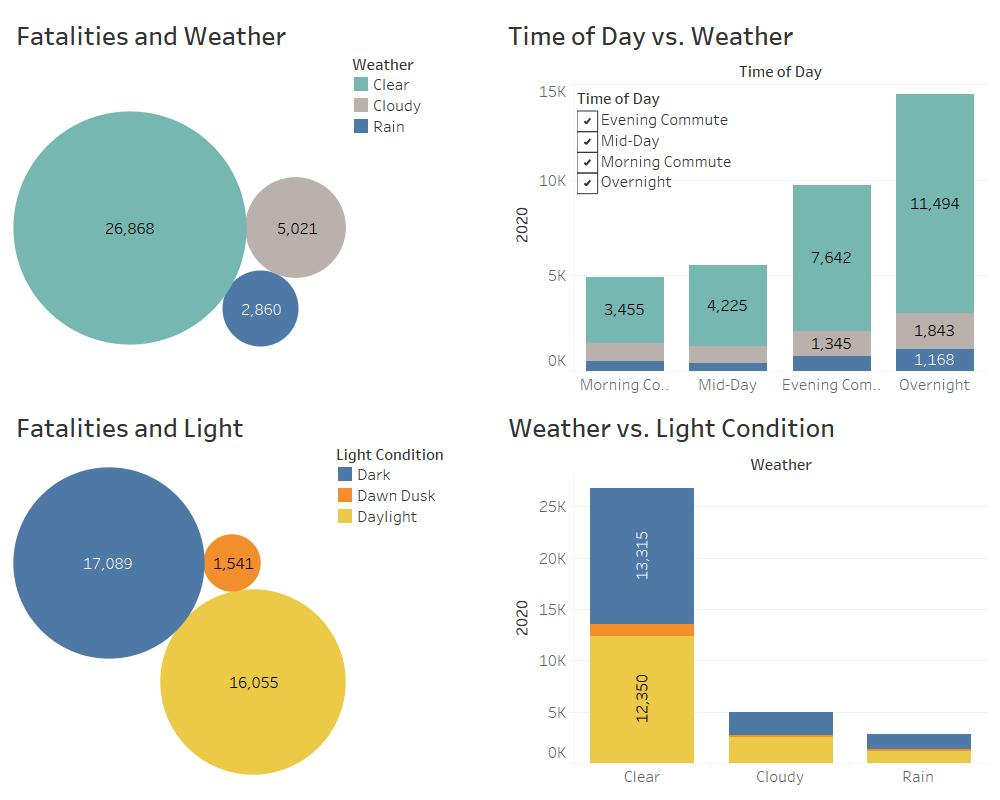

This screenshot's page, from the dashboard's own definition file:
{"tool":"tableau","page":{"name":"Dashboard 1","canvas":[1000,800],"ordinal":0},"visuals":[{"type":"worksheet","title":"Sheet 2","mark":"Circle","box":[8,8,492,392]},{"type":"worksheet","title":"Sheet 4","mark":"Automatic","rows":["number_of_fatalities"],"box":[500,8,492,392]},{"type":"legend","title":"Sheet 4","param":"[federated.0u33220150e2l51epe9a91ncw4q5].[none:atmospheric_conditions_1_name:nk]","box":[351,52,140,85]},{"type":"filter","title":"Sheet 4","param":"[federated.0u33220150e2l51epe9a91ncw4q5].[Hour Of Crash Name Commute Time (group","box":[577,87,165,118]},{"type":"worksheet","title":"Sheet 3","mark":"Circle","box":[8,400,492,392]},{"type":"worksheet","title":"Sheet 5","mark":"Automatic","rows":["number_of_fatalities"],"cols":["atmospheric_conditions_1_name"],"box":[500,400,492,392]},{"type":"legend","title":"Sheet 5","param":"[federated.0u33220150e2l51epe9a91ncw4q5].[Light Condition (group) Daylight Dark ","box":[335,442,140,85]}]}

Visuals, with their boxes in screenshot pixels (x1, y1, x2, y2), scaled from the page's 1000x800 canvas onto the 1000x800 screenshot:
"Sheet 2" worksheet (Circle marks): BBox(8, 8, 500, 400)
"Sheet 4" worksheet: BBox(500, 8, 992, 400)
"Sheet 4" legend: BBox(351, 52, 491, 137)
"Sheet 4" filter: BBox(577, 87, 742, 205)
"Sheet 3" worksheet (Circle marks): BBox(8, 400, 500, 792)
"Sheet 5" worksheet: BBox(500, 400, 992, 792)
"Sheet 5" legend: BBox(335, 442, 475, 527)
